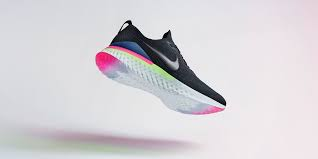nike: (145, 42, 181, 72)
